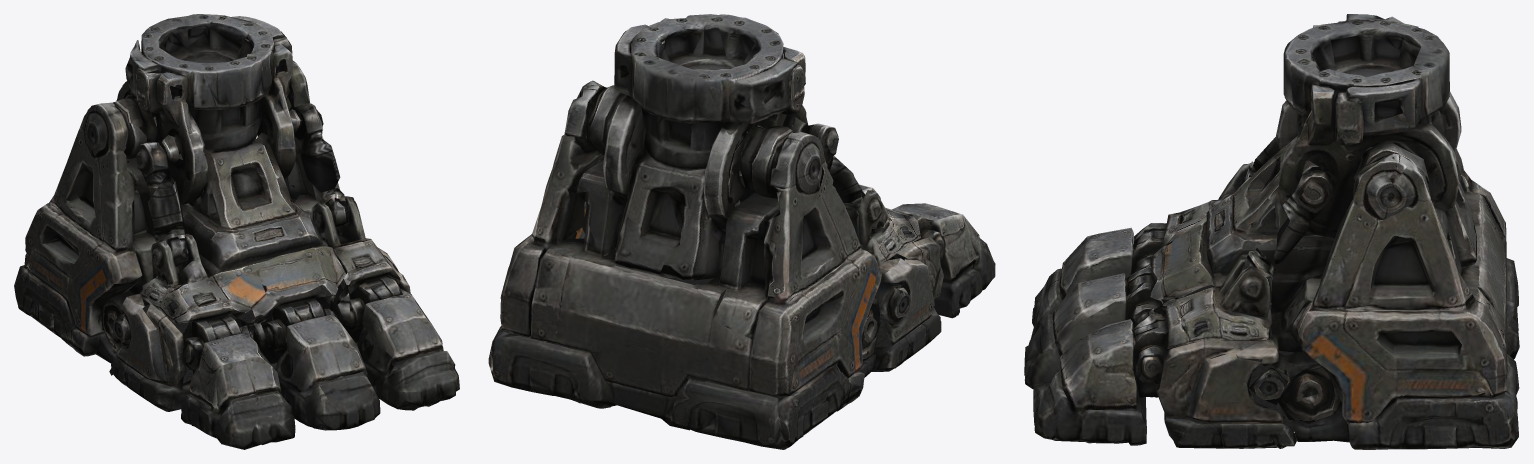
File: foot.glb
3 renders of one model, left to right at view 1: azimuth 30°, elevation 25°; view 2: azimuth 150°, elevation 25°; view 3: azimuth 270°, elevation 25°, orthographic. The views are drawn at different scales.
Parts seen in each view (by area): view 1: tripo_part_0; view 2: tripo_part_0; view 3: tripo_part_0.
Part boxes in pixels (<box>): tripo_part_0: <box>14,14,459,449</box>; tripo_part_0: <box>488,14,995,449</box>; tripo_part_0: <box>1024,14,1519,449</box>.
Bounding box in the file's own units: 0.7024 × 0.7101 × 0.9786.
1 material, 1 textured.
